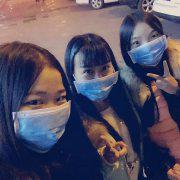OK: (9, 84, 75, 150), (126, 29, 166, 69), (78, 60, 117, 99)
